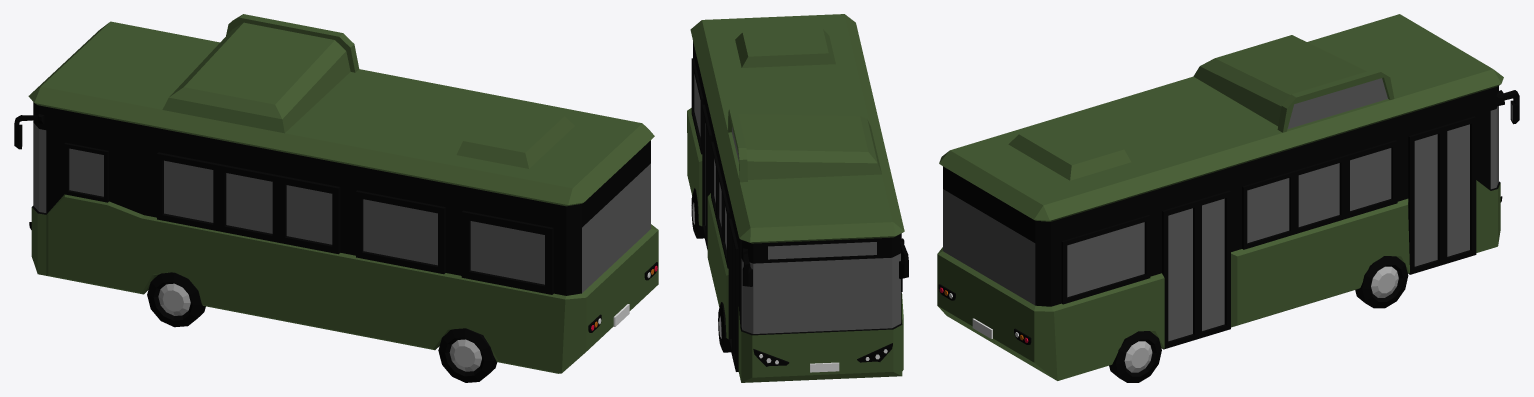
The model's file is Bus.fbx.
3 views of the same model, side by side, from view 1: azimuth 30°, elevation 25°; view 2: azimuth 150°, elevation 25°; view 3: azimuth 270°, elevation 25° (orthographic). The views are drawn at different scales.
Visible parts, largest first — view 1: Bus; view 2: Bus; view 3: Bus.
Boxes of the visible parts, x1,y1,x2,y2 form: Bus: (14, 14, 658, 382); Bus: (687, 14, 908, 382); Bus: (937, 14, 1519, 382).
Size of the model in its own units: 955 by 1133 by 491.
